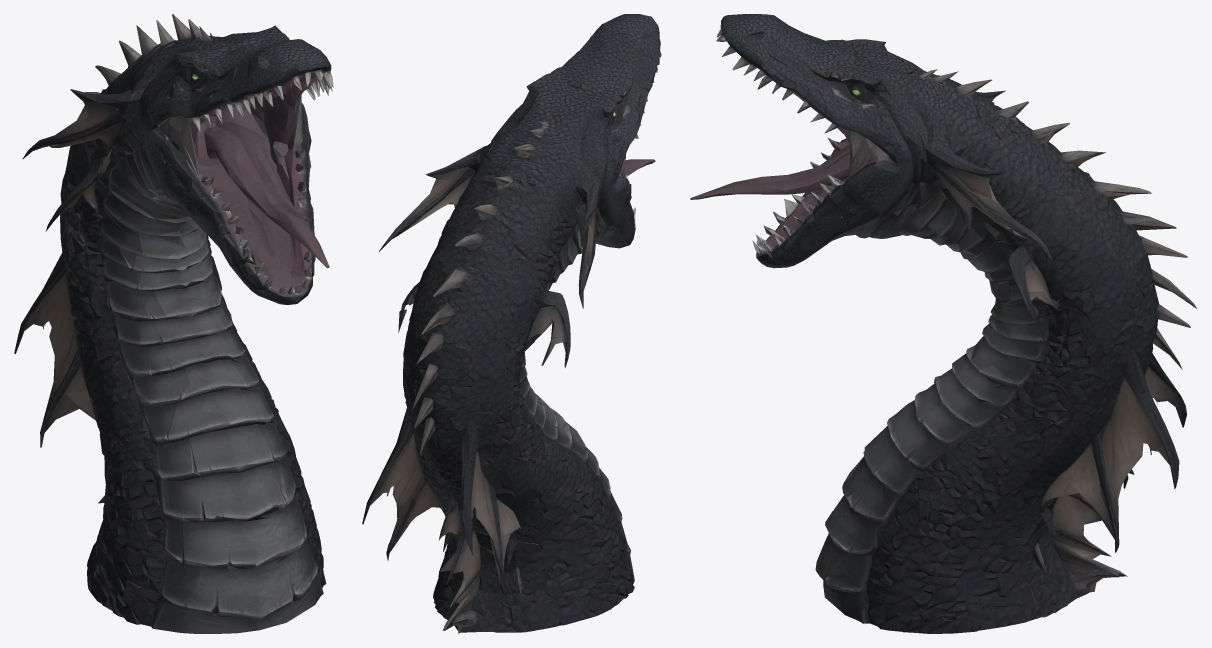
Rendered from dragonsnake.glb.
The picture shows the model from 3 angles, left to right: view 1: azimuth 30°, elevation 25°; view 2: azimuth 150°, elevation 25°; view 3: azimuth 270°, elevation 25°; orthographic projection. The views are drawn at different scales.
Visible parts, largest first — view 1: dragonsnake-centred; view 2: dragonsnake-centred; view 3: dragonsnake-centred.
Boxes of the visible parts, <box> form: dragonsnake-centred: <box>14,14,333,633</box>; dragonsnake-centred: <box>362,14,661,633</box>; dragonsnake-centred: <box>690,14,1196,633</box>.
Bounding box in the file's own units: 1.91 × 4.5 × 3.65.
Materials: 1 (1 with a texture image).
